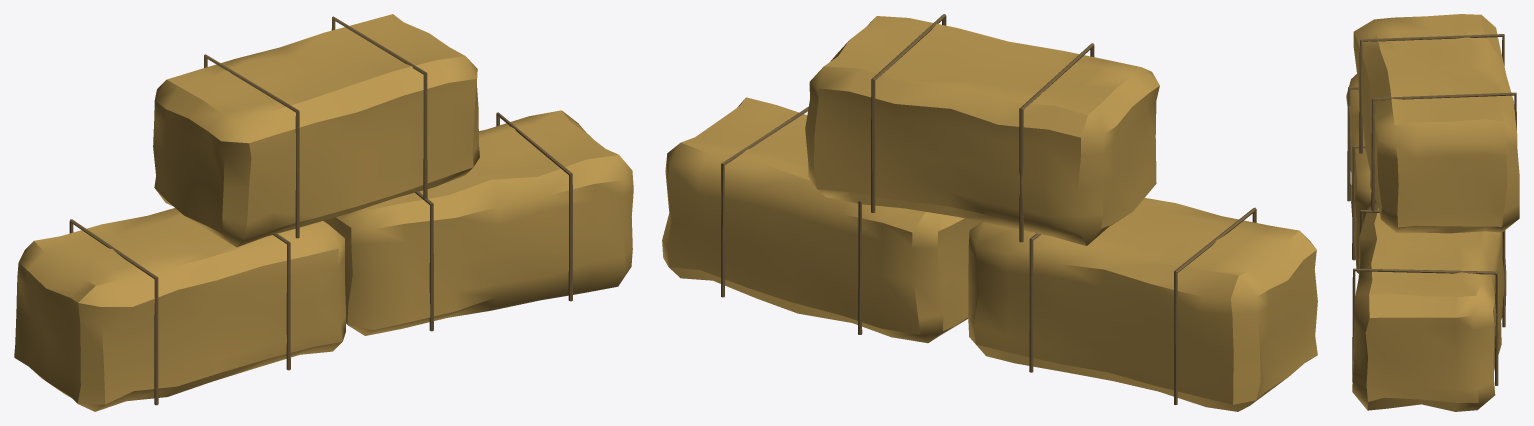
File: heuballen.glb
3 renders of one model, left to right at view 1: azimuth 30°, elevation 25°; view 2: azimuth 150°, elevation 25°; view 3: azimuth 270°, elevation 25°, orthographic. The views are drawn at different scales.
Visible parts, largest first — view 1: heuballen; view 2: heuballen; view 3: heuballen.
Part boxes in pixels (x1,y1,x2,y2): heuballen: (14, 14, 633, 411); heuballen: (662, 14, 1317, 411); heuballen: (1346, 14, 1519, 411).
Bounding box in the file's own units: 1.89 × 0.8217 × 0.5617.
